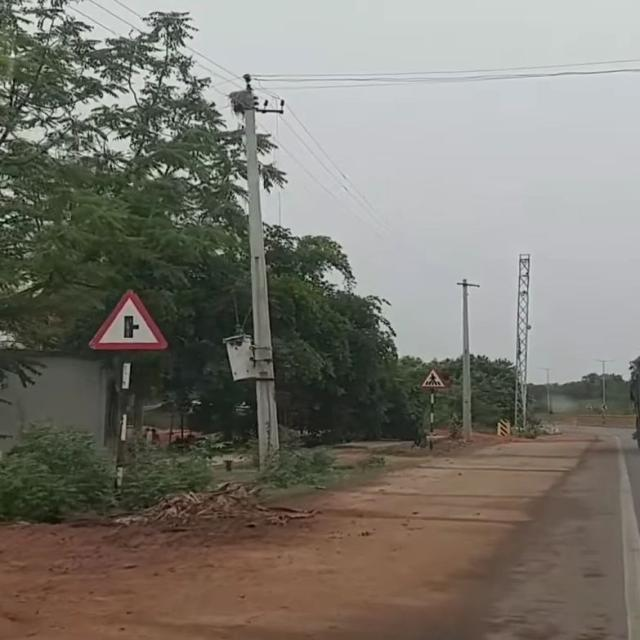Sideroad_toright: (87, 288, 169, 352)
